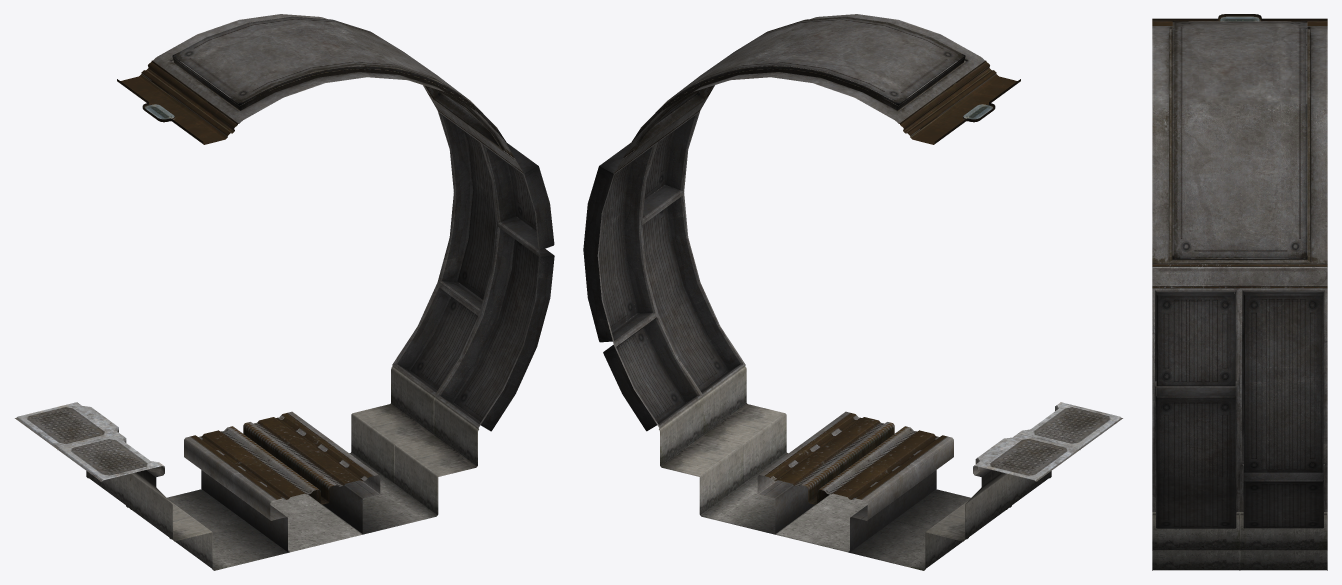
The model's file is theta_traintunnel.dae.
The picture shows the model from 3 angles, left to right: view 1: azimuth 30°, elevation 25°; view 2: azimuth 150°, elevation 25°; view 3: azimuth 270°, elevation 25°; orthographic projection.
Parts seen in each view (by area): view 1: polySurface1578; view 2: polySurface1578; view 3: polySurface1578.
Part boxes in pixels (<box>): polySurface1578: <box>15,14,554,570</box>; polySurface1578: <box>583,14,1122,570</box>; polySurface1578: <box>1152,14,1327,570</box>.
Size of the model in its own units: 6.1 by 5.95 by 2.
